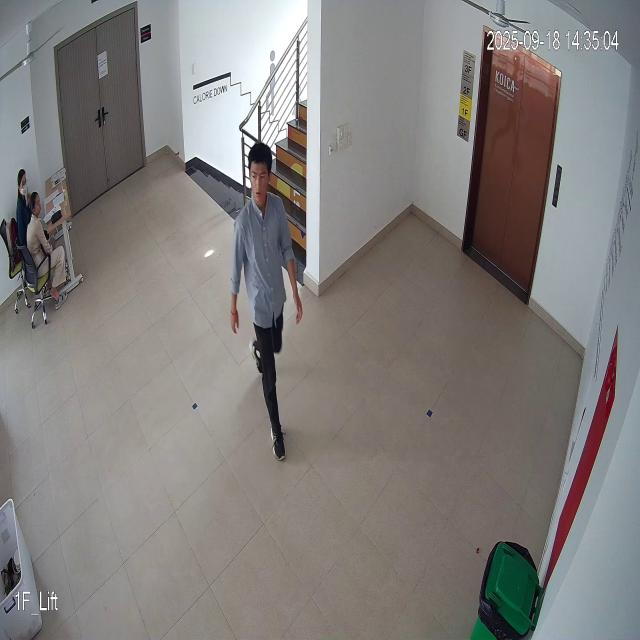face: (246, 139, 272, 210)
